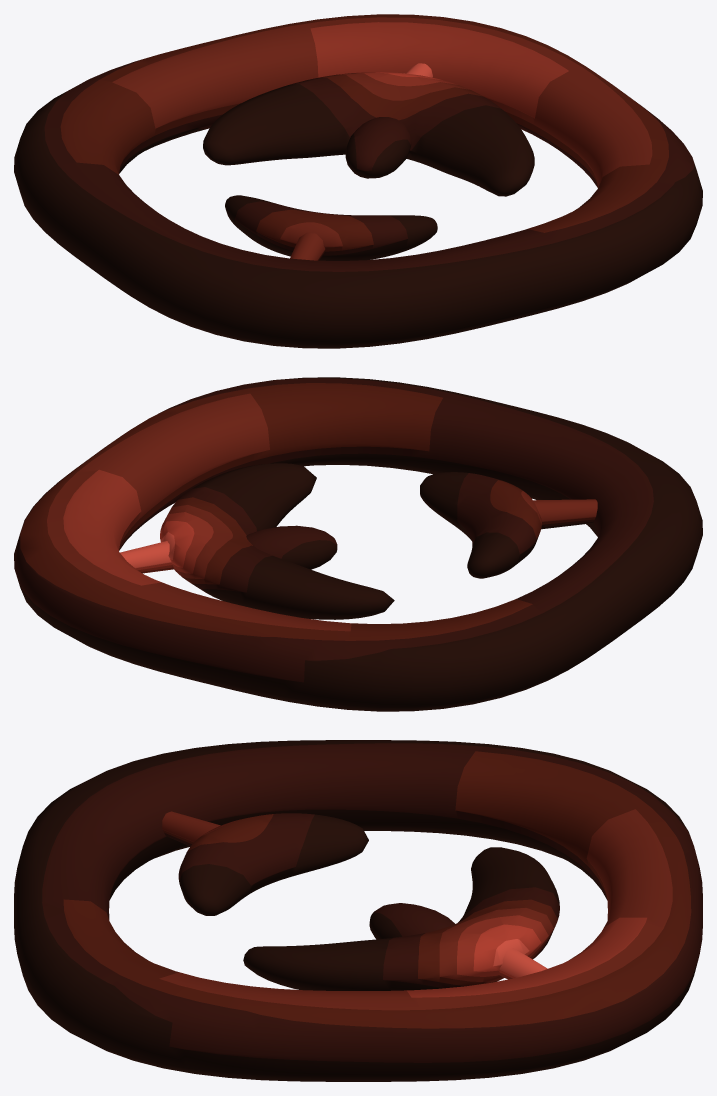
Rendered from beetle_ring.glb.
3 renders of one model, top to bottom at view 1: azimuth 30°, elevation 25°; view 2: azimuth 150°, elevation 25°; view 3: azimuth 270°, elevation 25°, orthographic. The views are drawn at different scales.
Visible parts, largest first — view 1: beetle_ring; view 2: beetle_ring; view 3: beetle_ring.
Part boxes in pixels (x1,y1,x2,y2): beetle_ring: [14, 14, 702, 348]; beetle_ring: [14, 377, 702, 711]; beetle_ring: [14, 740, 702, 1081].
Size of the model in its own units: 8.12 by 1 by 8.12.
